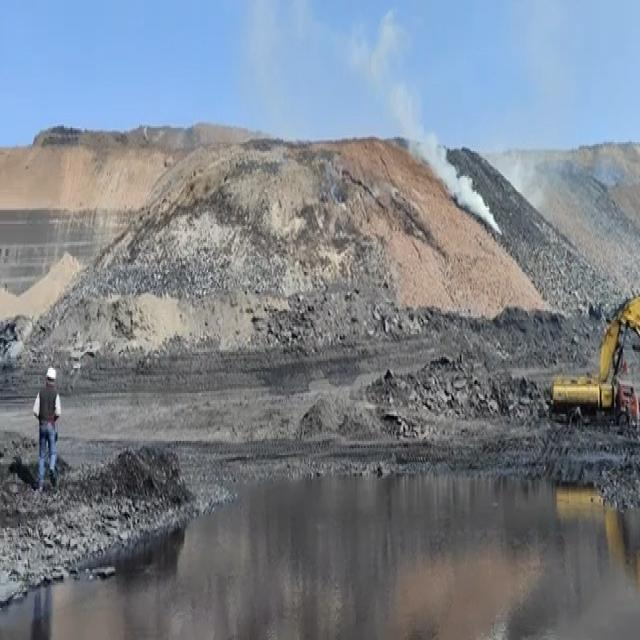dump_truck: (548, 376, 640, 432)
excavator: (547, 288, 640, 380)
